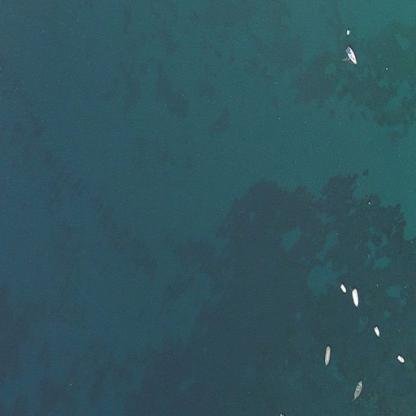ship: (339, 39, 365, 70), (348, 376, 366, 400), (333, 275, 349, 298), (320, 341, 332, 367), (349, 284, 361, 308), (368, 322, 383, 338), (391, 352, 408, 364), (340, 22, 354, 36)
